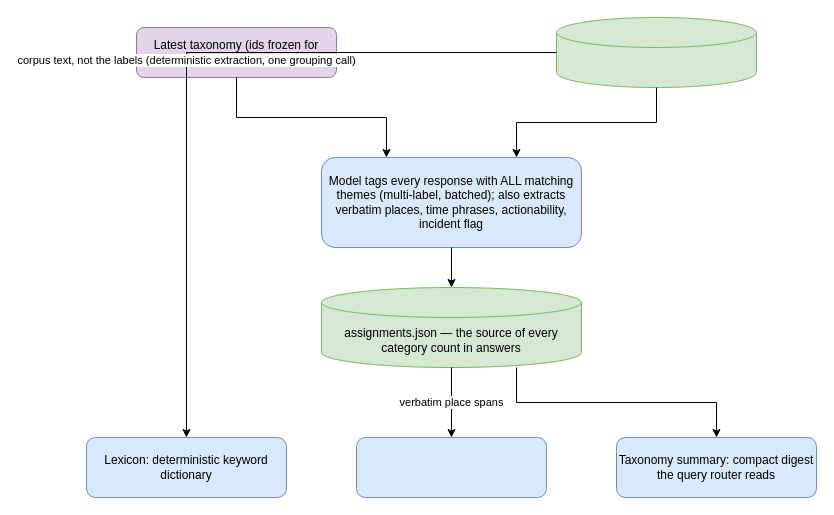
This 834x515 diagram has some shape labels left out. Each missing label, with the centre of its shape:
Locations layer: place names per response: the point at 451,467
responses.parquet (full corpus): the point at 656,52
